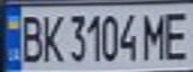0: (100, 11, 121, 62)
1: (84, 11, 103, 62)
3: (63, 11, 87, 63)
4: (118, 10, 142, 62)
B: (15, 11, 45, 63)
E: (160, 7, 193, 62)
K: (36, 11, 66, 63)
M: (139, 8, 172, 62)
